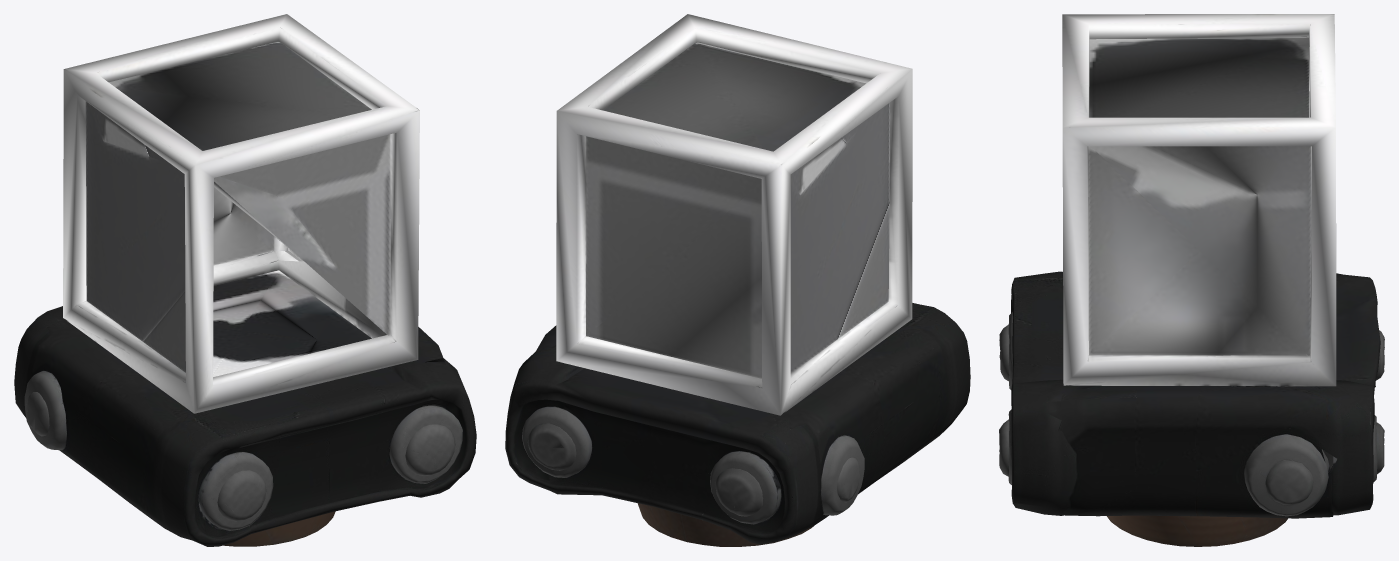
The model's file is s2_r6c2_ghost_build_slot_conveyor.glb.
3 views of the same model, side by side, from view 1: azimuth 30°, elevation 25°; view 2: azimuth 150°, elevation 25°; view 3: azimuth 270°, elevation 25° (orthographic). The views are drawn at different scales.
Bounding box in the file's own units: 0.8252 × 1 × 0.8054.
Materials: 1 (1 with a texture image).
